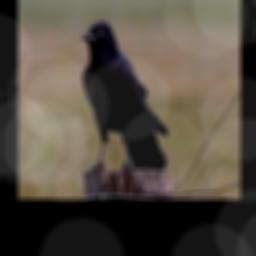Crow: (80, 20, 167, 169)
